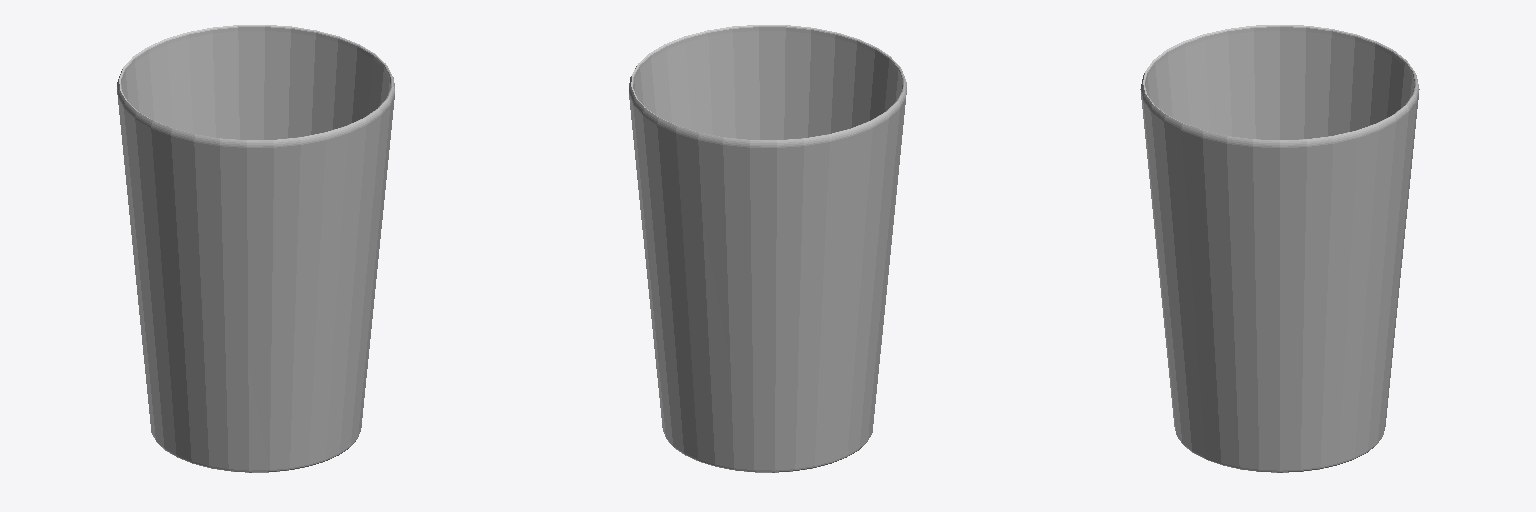
The model's file is cup3.obj.
The picture shows the model from 3 angles: view 1: azimuth 30°, elevation 25°; view 2: azimuth 150°, elevation 25°; view 3: azimuth 270°, elevation 25°; orthographic projection.
Visible parts, largest first — view 1: Circle; view 2: Circle; view 3: Circle.
Part boxes in pixels (x1,y1,x2,y2): Circle: (117,25,394,472); Circle: (629,25,906,472); Circle: (1140,25,1419,472).
Bounding box in the file's own units: 0.0473 × 0.0649 × 0.0473.